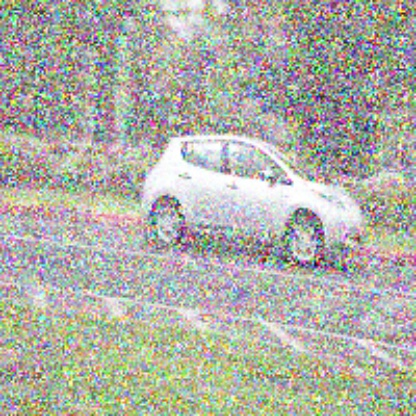Vehicle: (141, 132, 369, 269)
